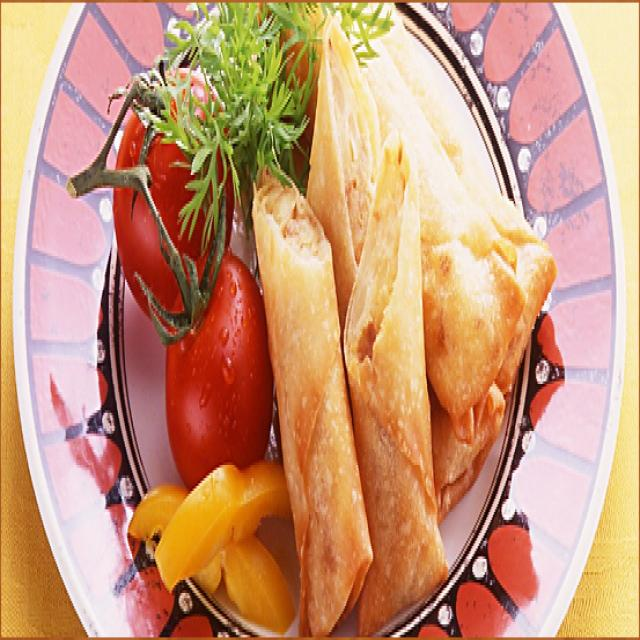鸡蛋料理: (248, 0, 558, 640)
